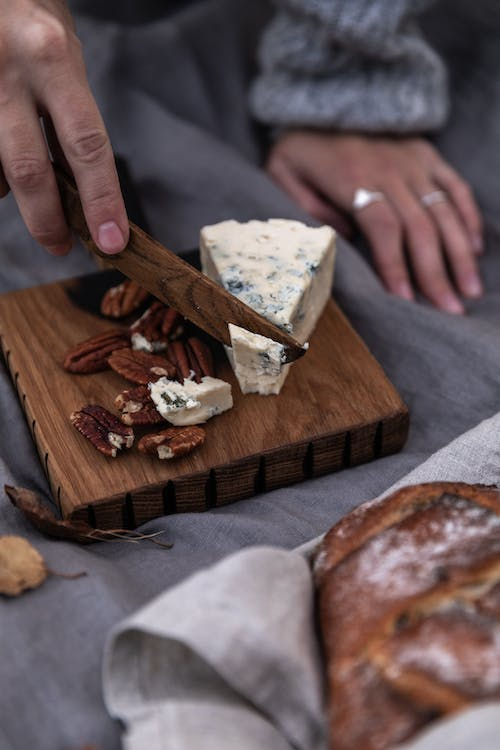knife: (45, 159, 309, 371)
